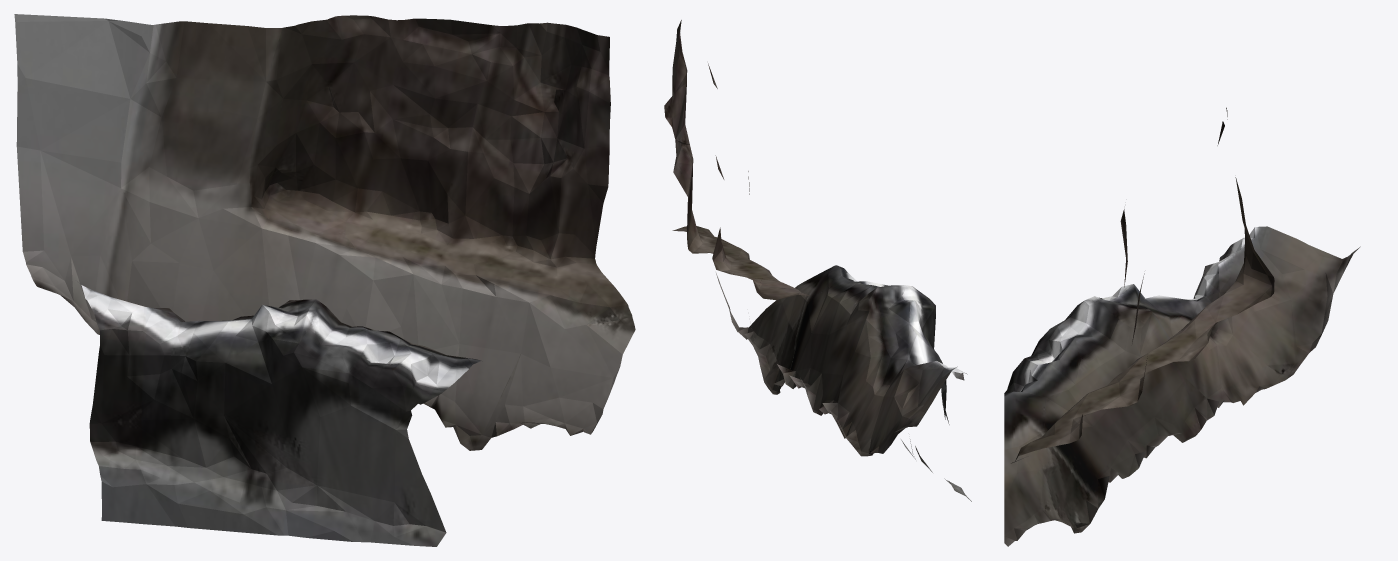
The picture shows the model from 3 angles, left to right: view 1: azimuth 30°, elevation 25°; view 2: azimuth 150°, elevation 25°; view 3: azimuth 270°, elevation 25°; orthographic projection. The views are drawn at different scales.
Bounding box in the file's own units: 0.8373 × 0.8373 × 0.6782.
3 materials, 3 textured.
